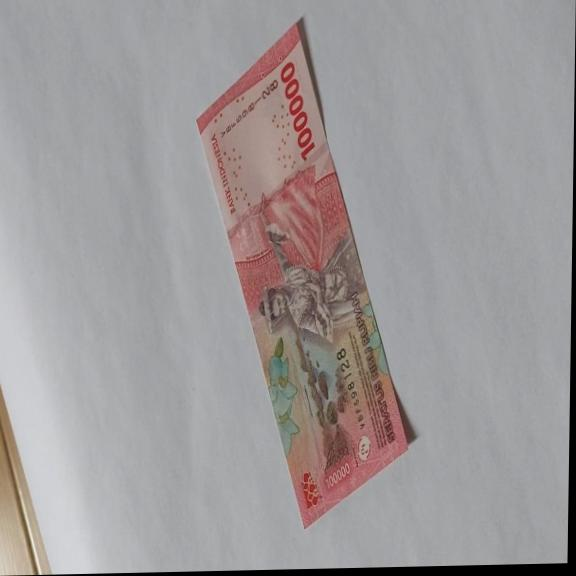Kertas: (190, 15, 416, 532)
